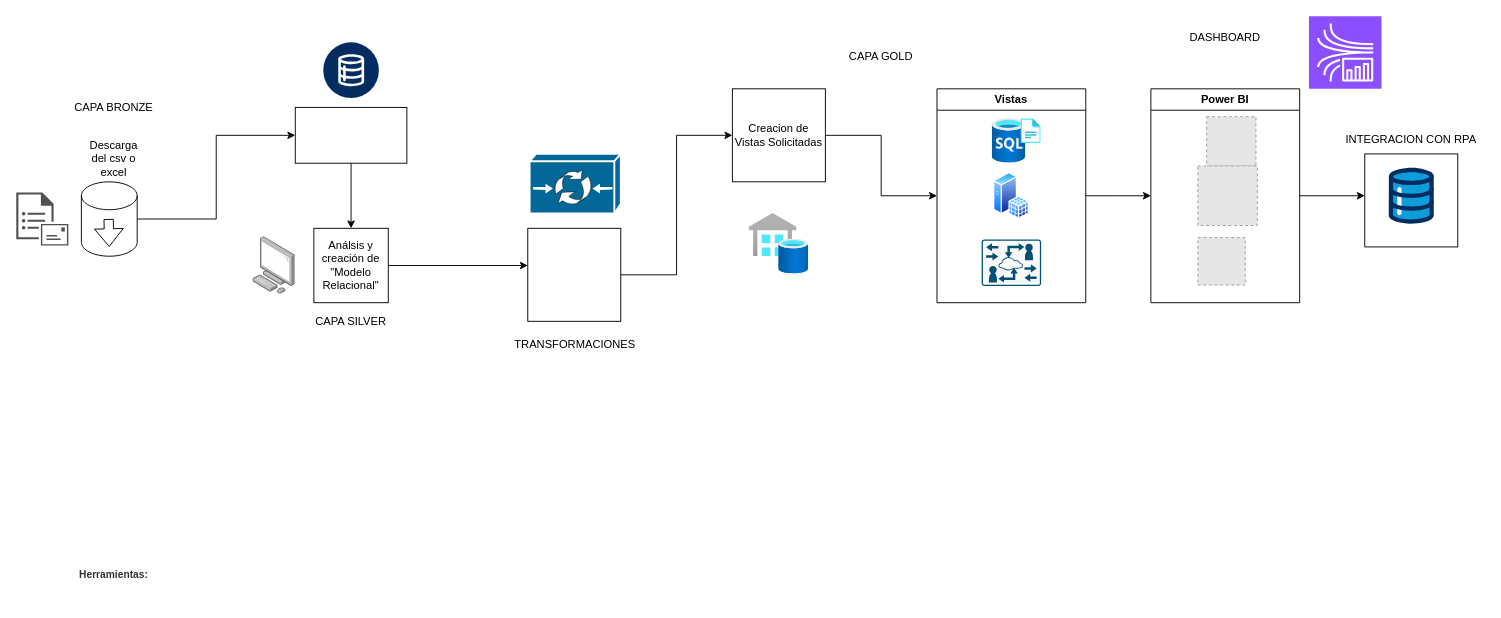
Image size: 1501x618. Some labels were removed from this diagram. Grey dashed boxes stand in for pictures. Each missing label, with the centre of its shape:
Aplicacación de las "Transformaciones": point 574,274
Recepción de Datos: point 350,134
